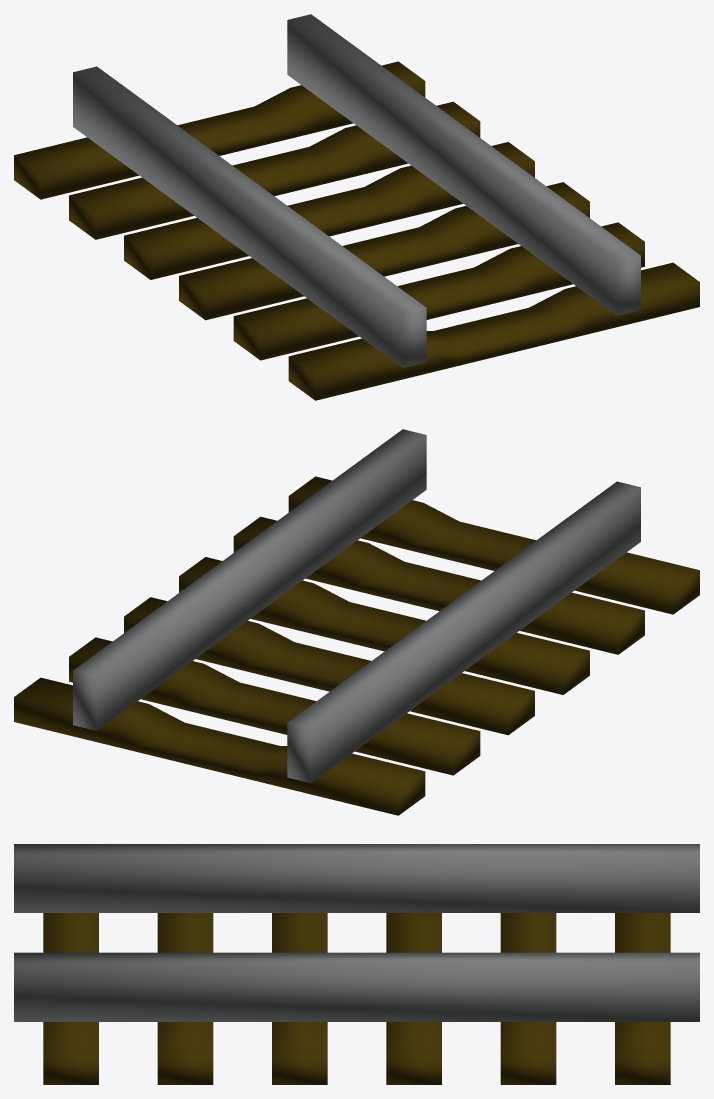
The model's file is StriaghtTrackTextured.fbx.
3 views of the same model, one above another, from view 1: azimuth 30°, elevation 25°; view 2: azimuth 150°, elevation 25°; view 3: azimuth 270°, elevation 25° (orthographic). The views are drawn at different scales.
Parts seen in each view (by area): view 1: Empty_Mesh; view 2: Empty_Mesh; view 3: Empty_Mesh.
Part boxes in pixels (left/top/right/bottom): Empty_Mesh: left=14, top=14, right=699, bottom=400; Empty_Mesh: left=14, top=429, right=699, bottom=815; Empty_Mesh: left=14, top=844, right=699, bottom=1084.
Size of the model in its own units: 808 by 160 by 1200.
